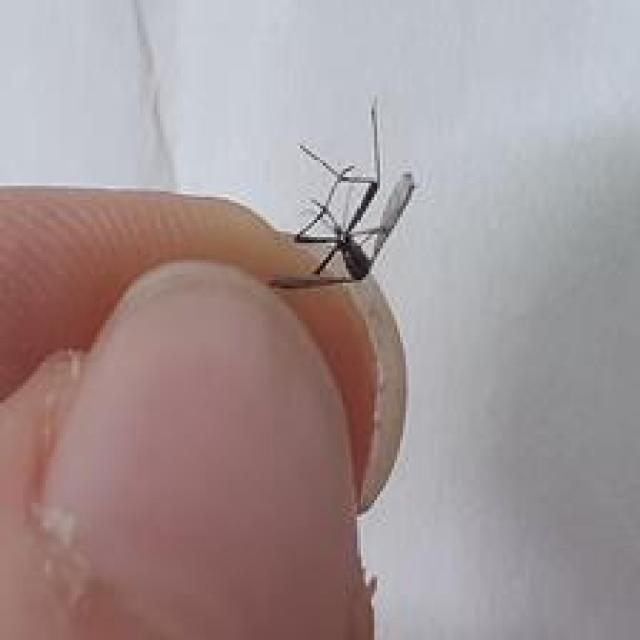Aedes albopictus: (266, 95, 417, 292)
